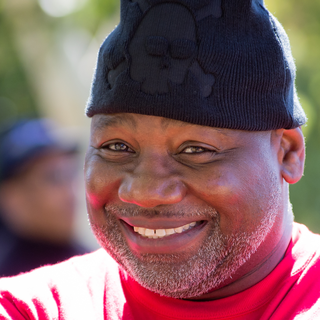eye: (169, 140, 220, 160), (95, 139, 138, 156)
